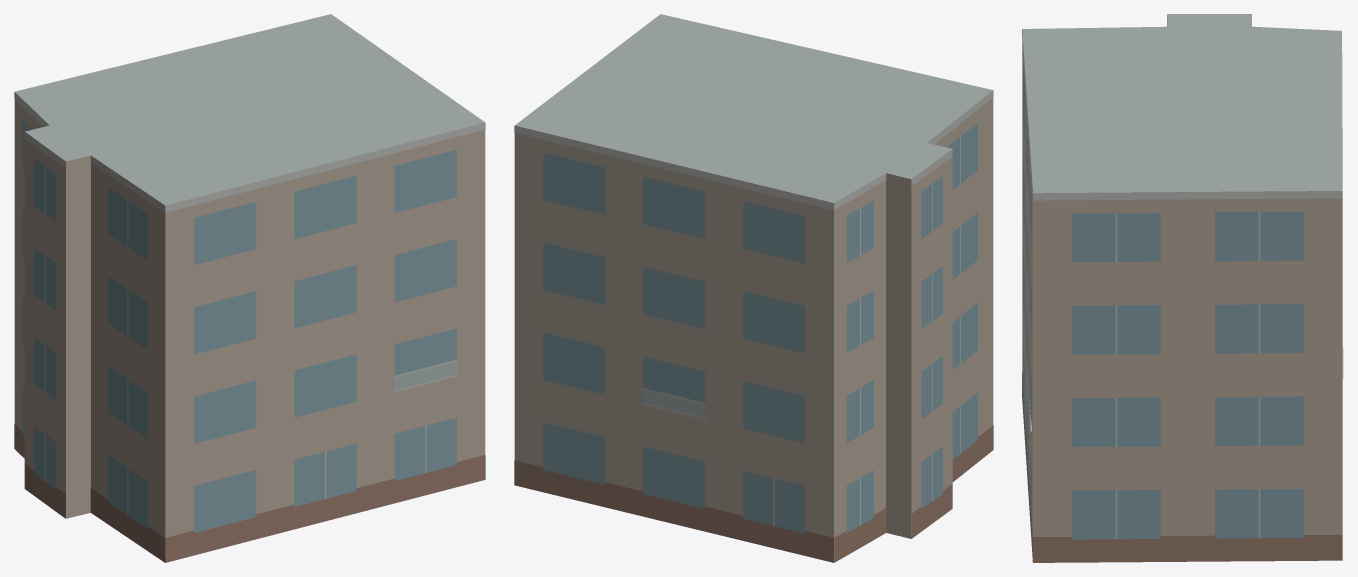
File: survey-upis-32946751.glb
The picture shows the model from 3 angles, left to right: view 1: azimuth 30°, elevation 25°; view 2: azimuth 150°, elevation 25°; view 3: azimuth 270°, elevation 25°; orthographic projection. The views are drawn at different scales.
Parts seen in each view (by area): view 1: survey-upis-32946751.tmp; view 2: survey-upis-32946751.tmp; view 3: survey-upis-32946751.tmp.
Part boxes in pixels (x1,y1,x2,y2): survey-upis-32946751.tmp: (14,14,485,562); survey-upis-32946751.tmp: (514,14,993,562); survey-upis-32946751.tmp: (1022,14,1343,562).
Bounding box in the file's own units: 12.69 × 12.2 × 9.62.
